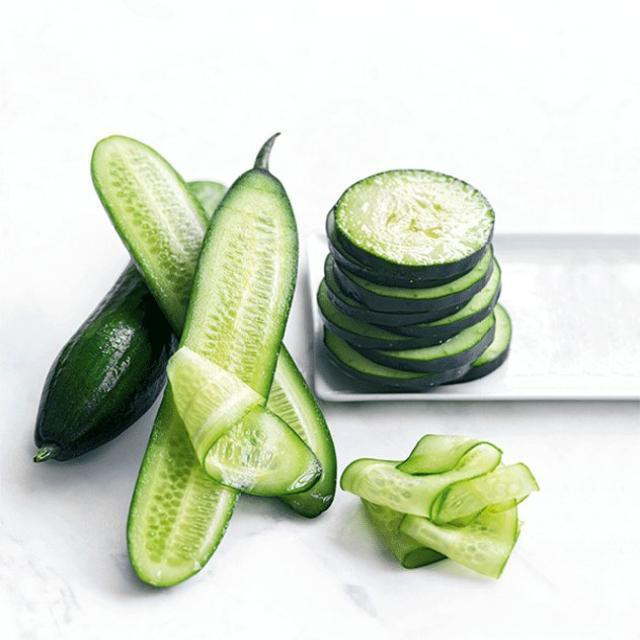cucumber: (35, 130, 339, 589)
